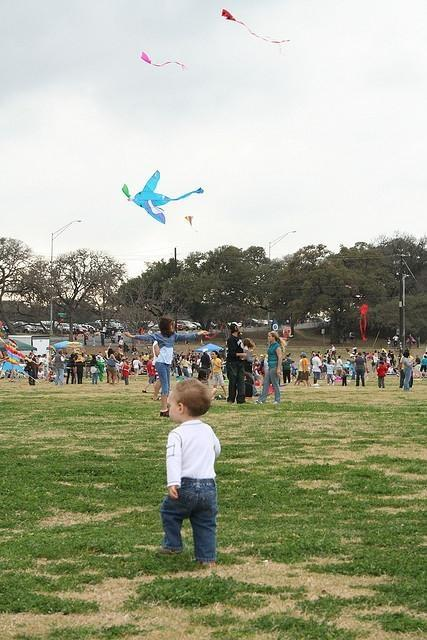car: (95, 319, 125, 333), (12, 323, 36, 333), (177, 320, 197, 330), (29, 322, 46, 333), (243, 318, 263, 327), (145, 322, 159, 334), (43, 326, 60, 334), (59, 322, 71, 333), (76, 326, 86, 334), (192, 322, 202, 330), (88, 322, 100, 328), (231, 322, 242, 328), (176, 322, 182, 330)
